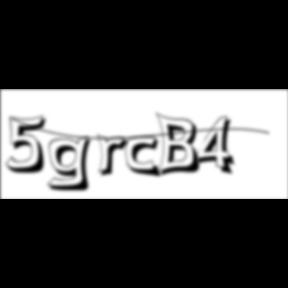4: (194, 115, 242, 179)
5: (6, 114, 53, 176)
B: (156, 111, 206, 179)
c: (126, 136, 166, 180)
g: (47, 134, 99, 194)
r: (97, 134, 135, 180)
